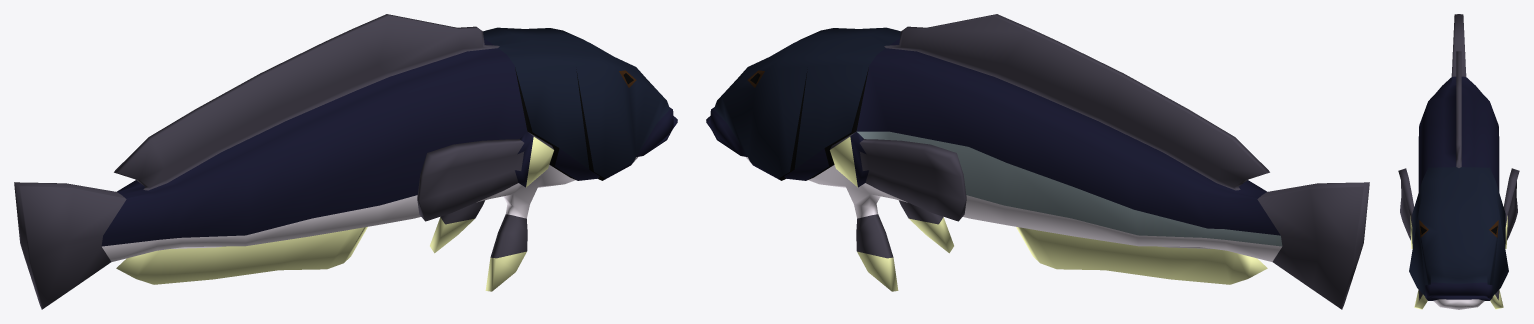
File: cod.glb
3 renders of one model, left to right at view 1: azimuth 30°, elevation 25°; view 2: azimuth 150°, elevation 25°; view 3: azimuth 270°, elevation 25°, orthographic. The views are drawn at different scales.
Visible parts, largest first — view 1: Cube.009; view 2: Cube.009; view 3: Cube.009.
Part boxes in pixels (left/top/right/bottom): Cube.009: left=14, top=14, right=677, bottom=309; Cube.009: left=706, top=14, right=1369, bottom=309; Cube.009: left=1398, top=14, right=1519, bottom=309.
Size of the model in its own units: 0.6329 by 0.2557 by 0.1431.
